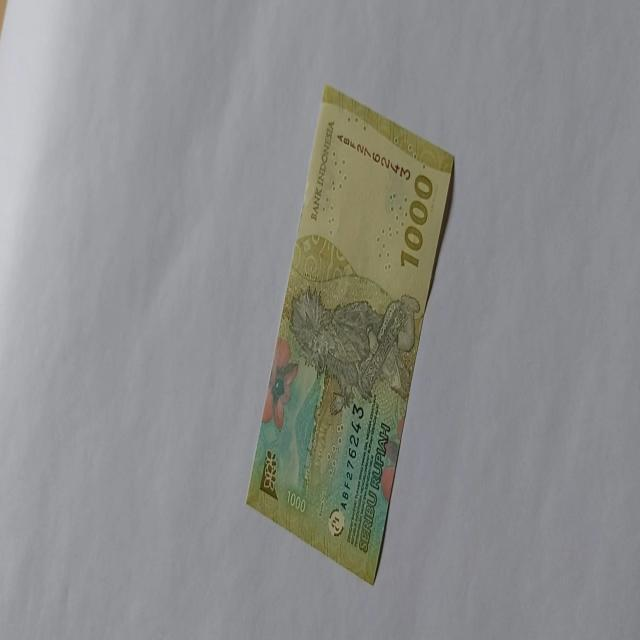seribu rupiah kertas: (244, 83, 456, 585)
